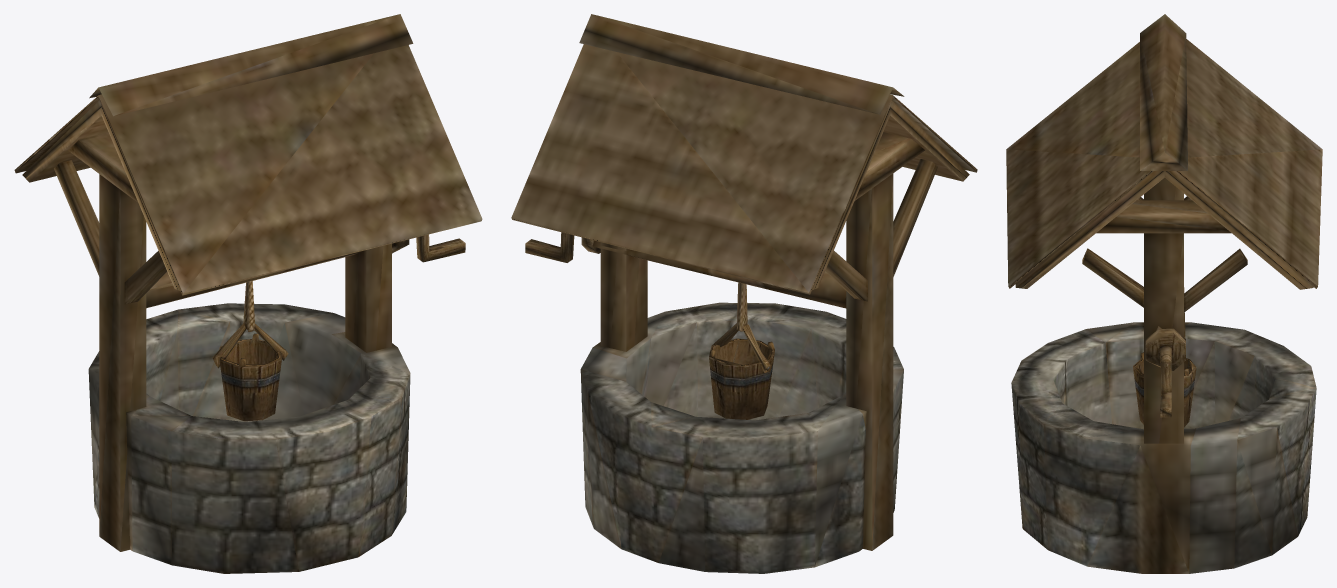
File: prop-well.glb
3 renders of one model, left to right at view 1: azimuth 30°, elevation 25°; view 2: azimuth 150°, elevation 25°; view 3: azimuth 270°, elevation 25°, orthographic. The views are drawn at different scales.
Size of the model in its own units: 0.792 by 0.9536 by 0.6348.
1 material, 1 textured.
